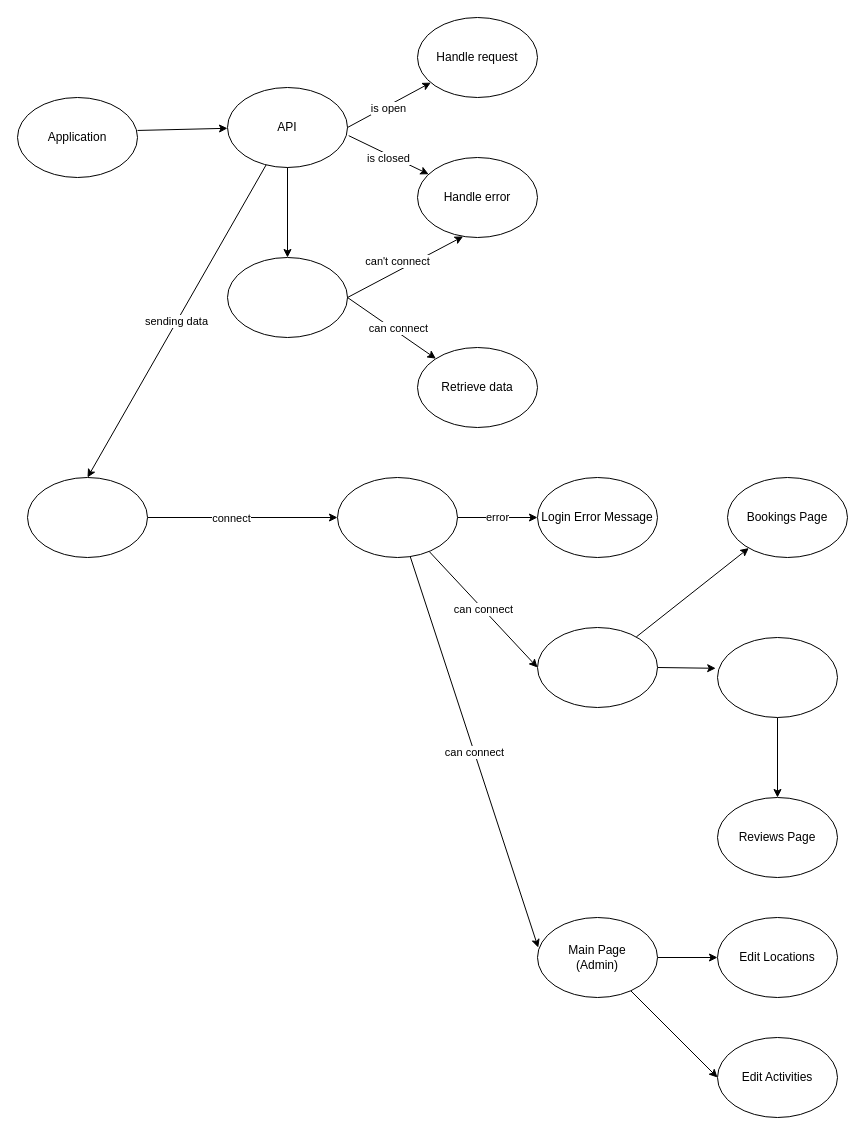
The diagram is 865 pixels wide and 1135 high, and some of its shapes have lost their labels. Each missing label, with the centre of its shape:
"Database" belongs at [287,297].
"Frontend" belongs at [87,517].
"Location Details Page" belongs at [777,677].
"Login" belongs at [397,517].
"Main Page (User)" belongs at [597,667].
